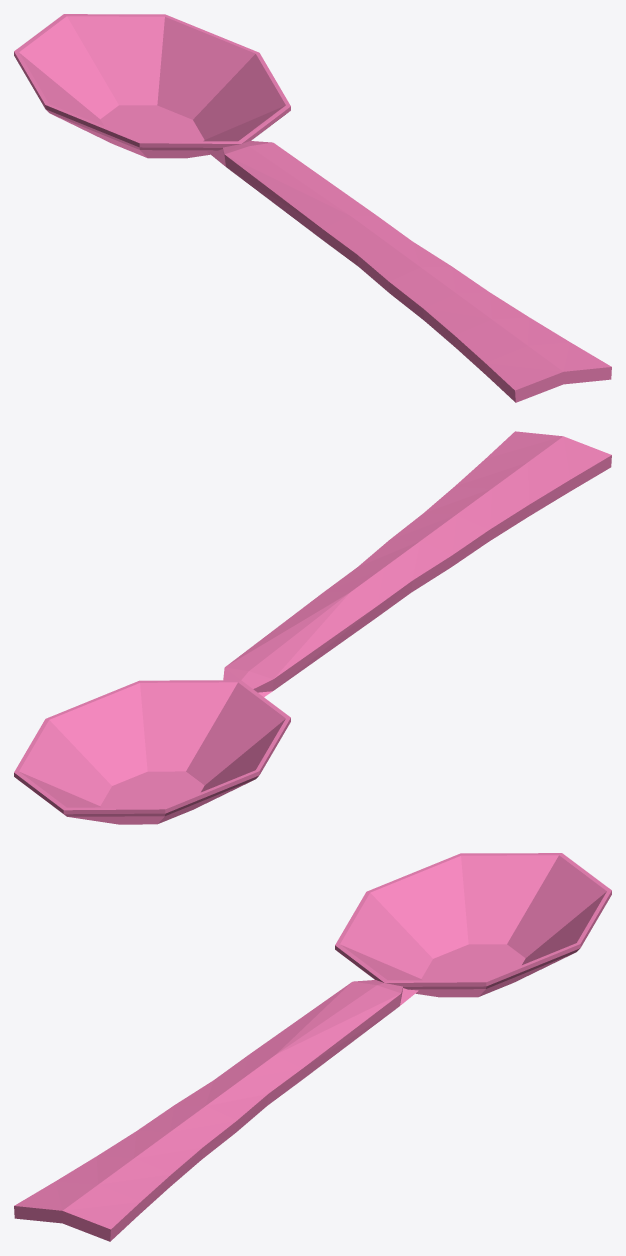
File: Spoon_2.fbx
3 renders of one model, top to bottom at view 1: azimuth 30°, elevation 25°; view 2: azimuth 150°, elevation 25°; view 3: azimuth 330°, elevation 25°, orthographic.
Parts seen in each view (by area): view 1: Spoon_02; view 2: Spoon_02; view 3: Spoon_02.
Part boxes in pixels (x1=…): Spoon_02: x1=14, y1=14, x2=611, y2=402; Spoon_02: x1=14, y1=431, x2=611, y2=824; Spoon_02: x1=14, y1=853, x2=611, y2=1241.
Bounding box in the file's own units: 6.36 × 1.79 × 25.72.
